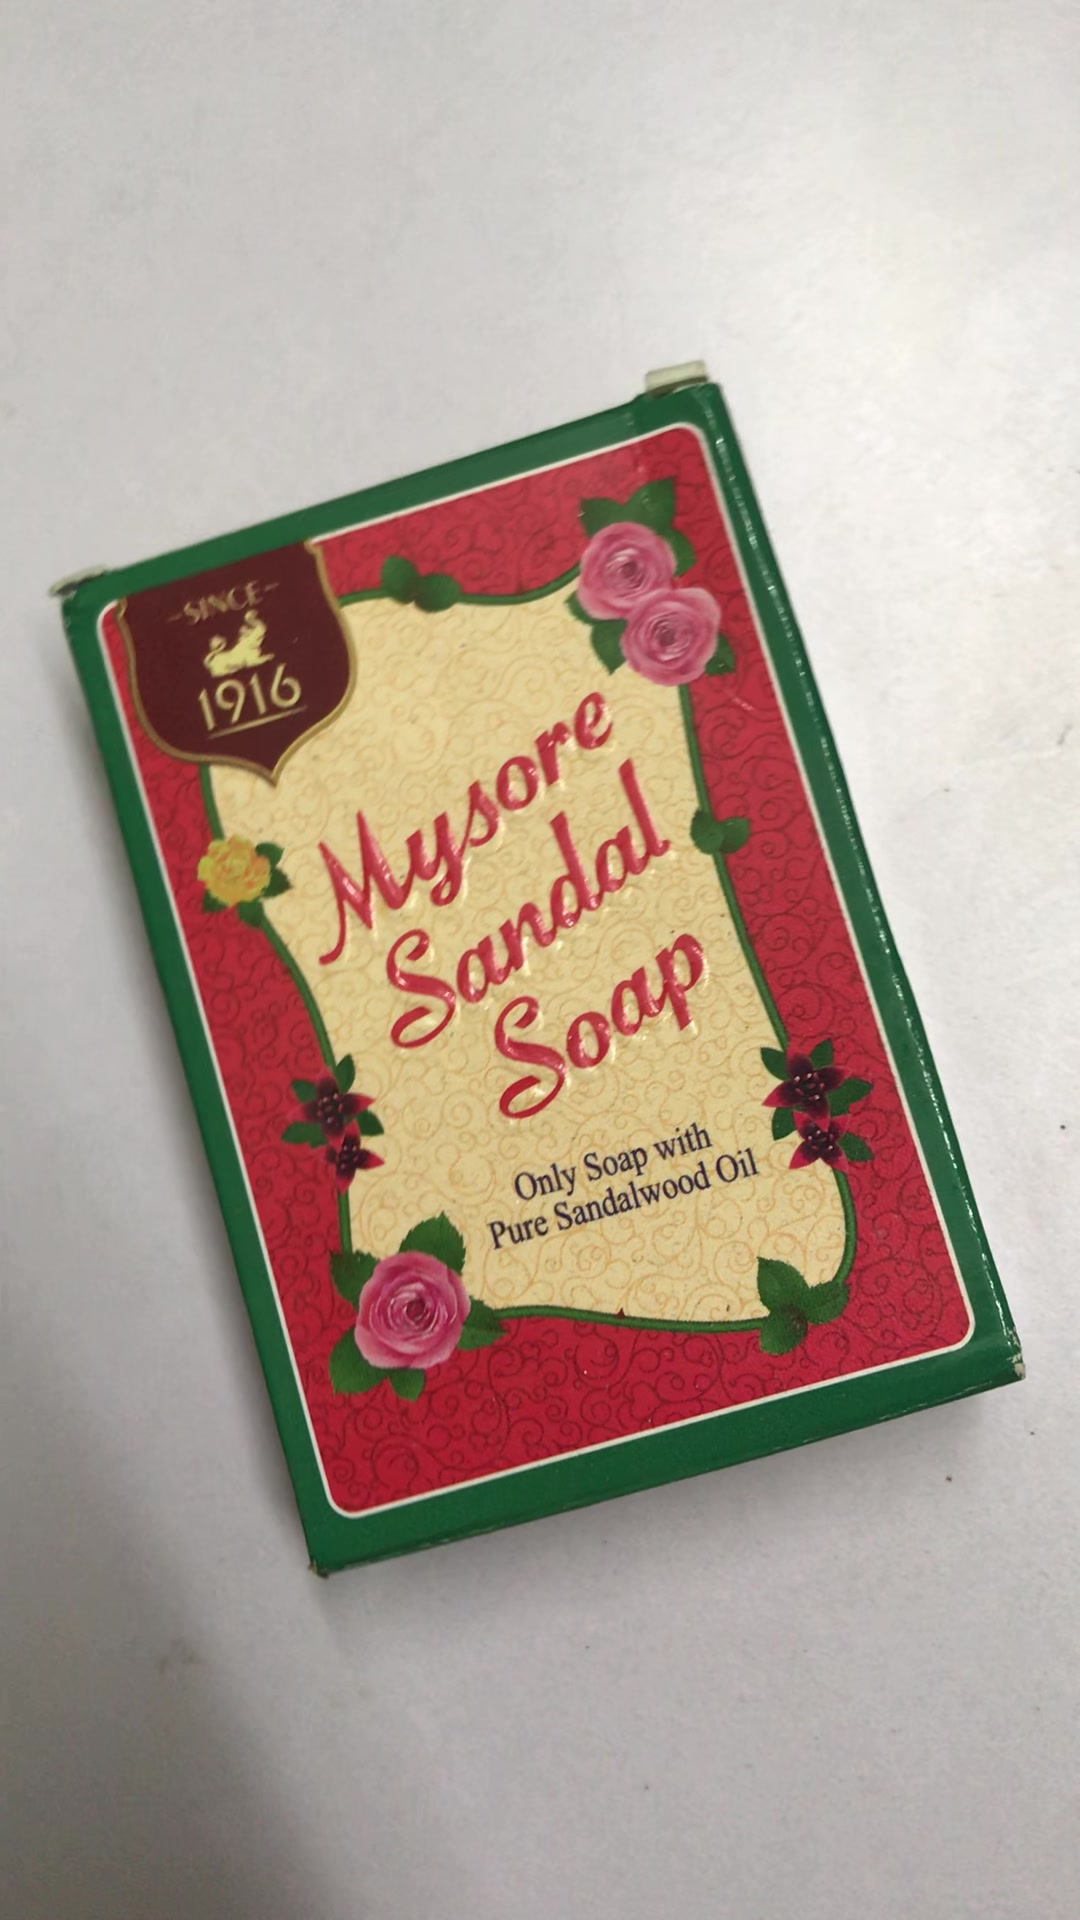mysore sandal soap: (47, 377, 1026, 1586)
